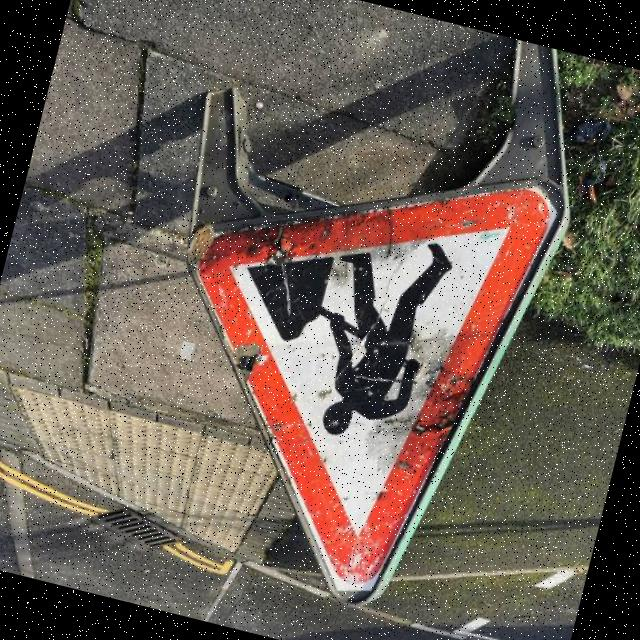road_work: (121, 107, 589, 640)
